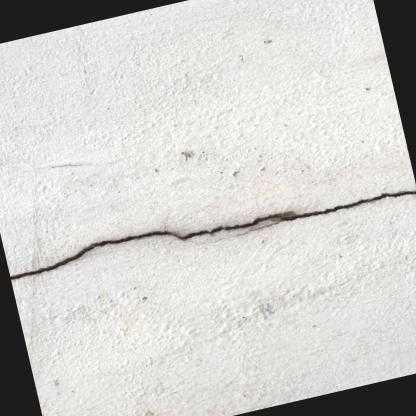crack: (10, 189, 416, 280)
